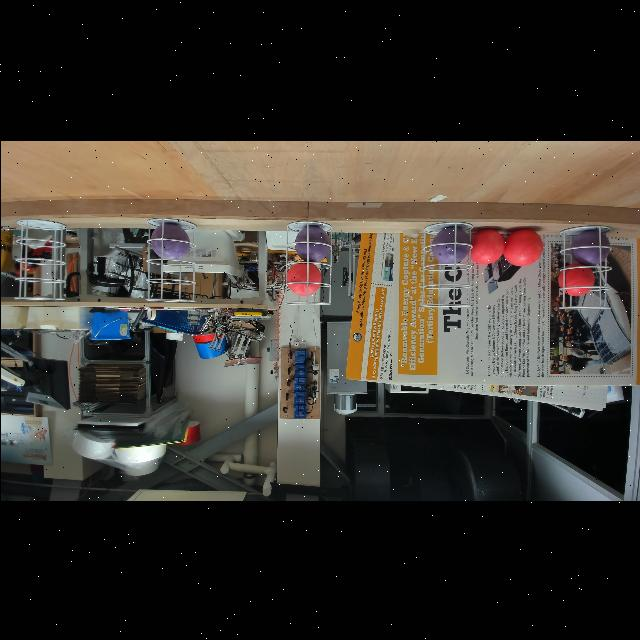P: (148, 222, 190, 260), (568, 228, 610, 266), (430, 226, 470, 264), (294, 224, 330, 262)
R: (465, 226, 505, 264), (502, 227, 542, 265), (557, 262, 595, 296), (285, 260, 321, 294)
S: (558, 224, 612, 308), (144, 216, 196, 302), (421, 220, 473, 306), (12, 218, 66, 300), (284, 220, 332, 304)
